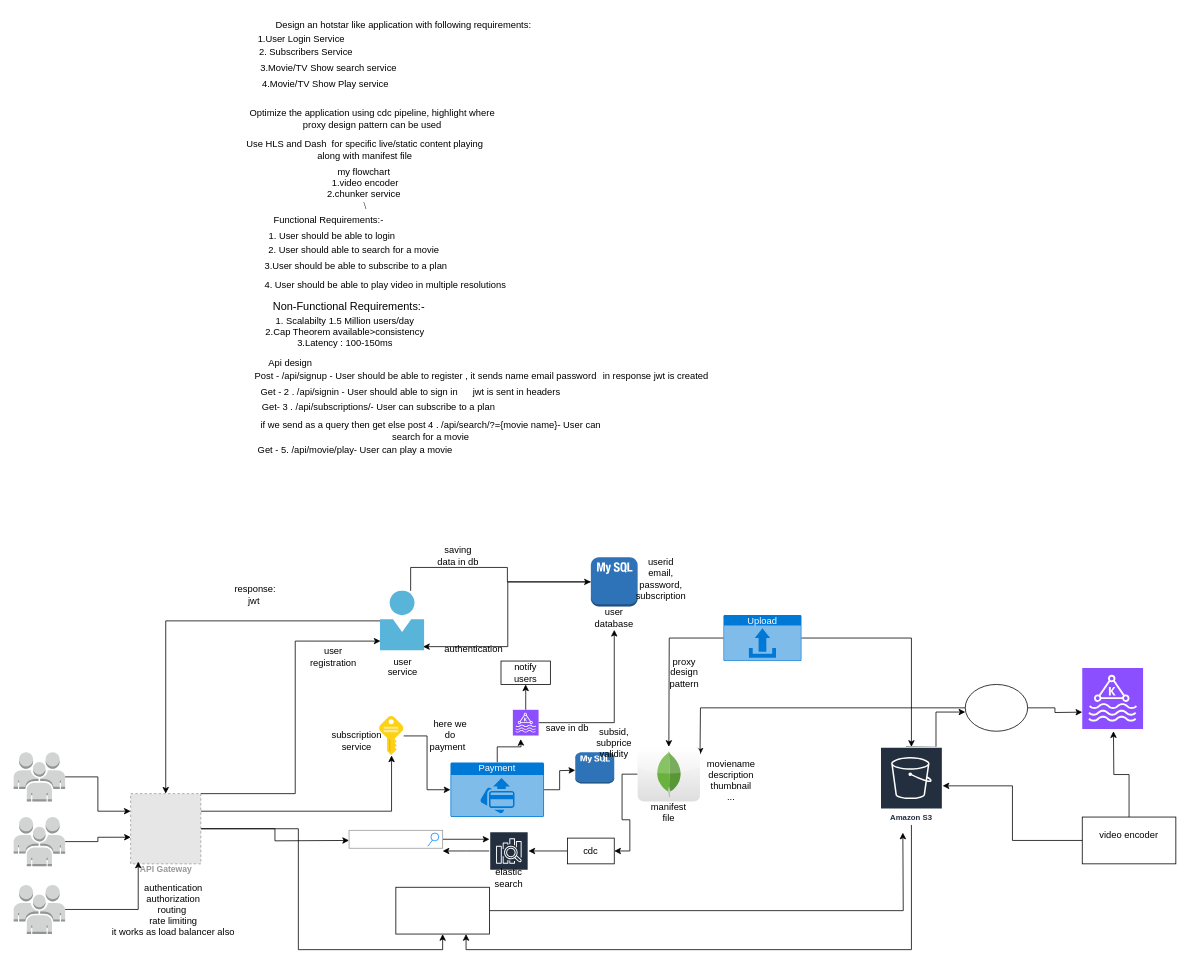
The diagram is 1190 pixels wide and 970 high, and some of its shapes have lost their labels. Grey dashed boxes stand in for pictures. Each missing label, with the centre of its shape:
chunker: the point at 996,707
play service: the point at 442,910
Search: the point at 395,839
